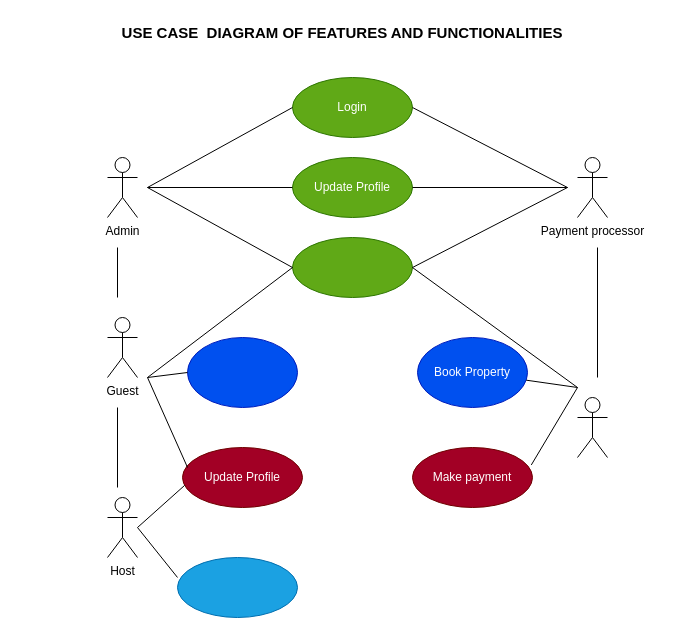
The diagram is 684 pixels wide and 635 high, and some of its shapes have lost their labels. The centre of each missing label's shape, as x and y in pixels:
List Properties: (352,267)
Process payment: (592,427)
Register: (242,372)
Respond to review: (237,587)
